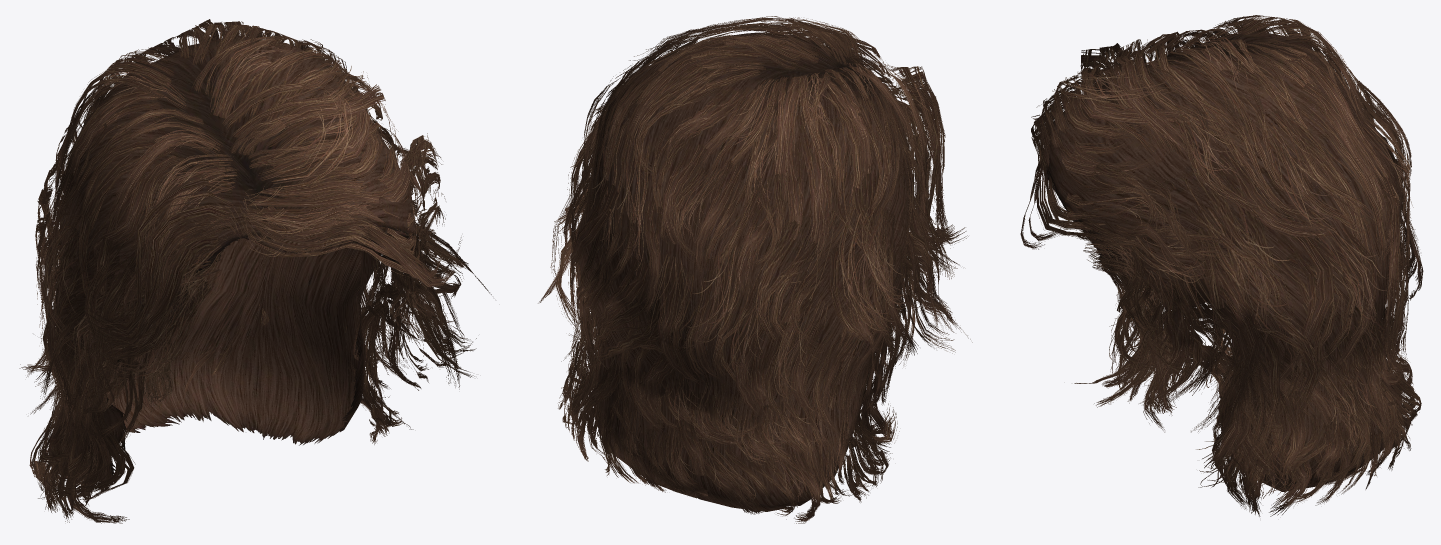
File: user_edit_v6.fbx
The picture shows the model from 3 angles, left to right: view 1: azimuth 30°, elevation 25°; view 2: azimuth 150°, elevation 25°; view 3: azimuth 270°, elevation 25°; orthographic projection. The views are drawn at different scales.
Parts seen in each view (by area): view 1: HairPlanes_M, hair_cap; view 2: HairPlanes_M, hair_cap; view 3: HairPlanes_M, hair_cap.
Boxes of the visible parts, x1,y1,x2,y2 form: HairPlanes_M: (19, 19, 491, 523); hair_cap: (49, 34, 417, 484); HairPlanes_M: (538, 16, 972, 523); hair_cap: (576, 33, 909, 511); HairPlanes_M: (1020, 15, 1423, 516); hair_cap: (1044, 32, 1402, 491).
Size of the model in its own units: 28.32 by 27.75 by 23.76.
